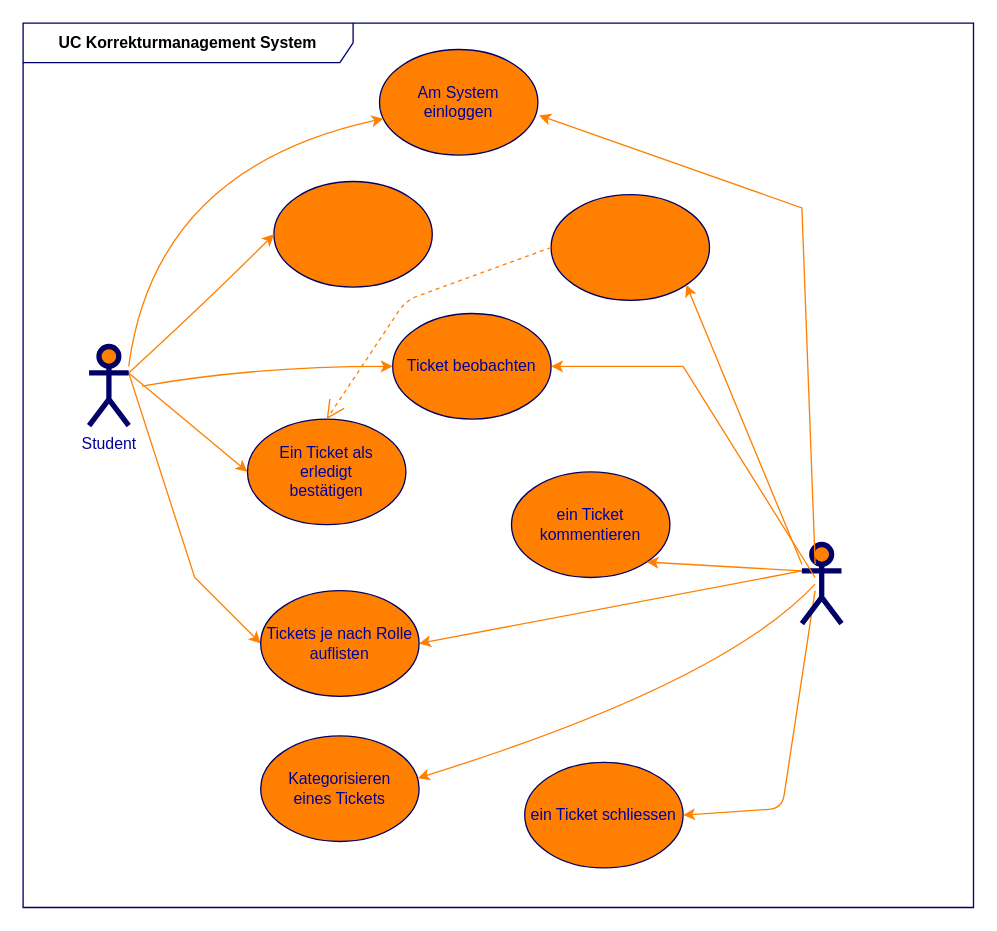
Image size: 997x931. Some labels were removed from this diagram. The centre of each missing label's shape, as x and y in pixels:
Ein Ticket erstellen und verschlag- worten: point 352,233
Status-Update eines Tickets: point 630,246
Tutor: point 821,583
